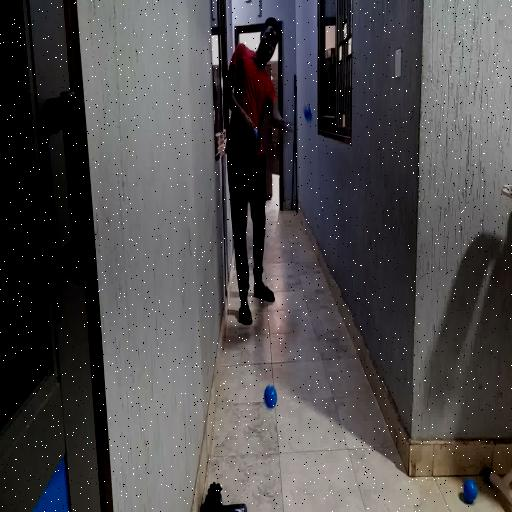plastic-ball: (302, 101, 313, 123)
